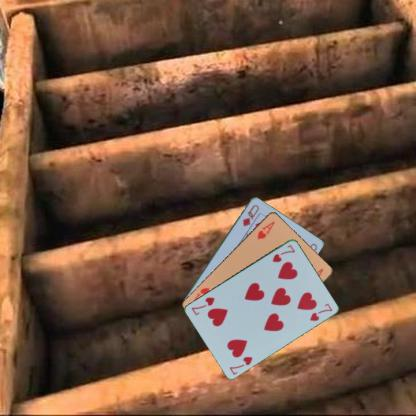7h: (227, 354, 254, 376), (270, 242, 296, 264)
Ah: (255, 218, 276, 240)
Qd: (240, 202, 260, 229)
